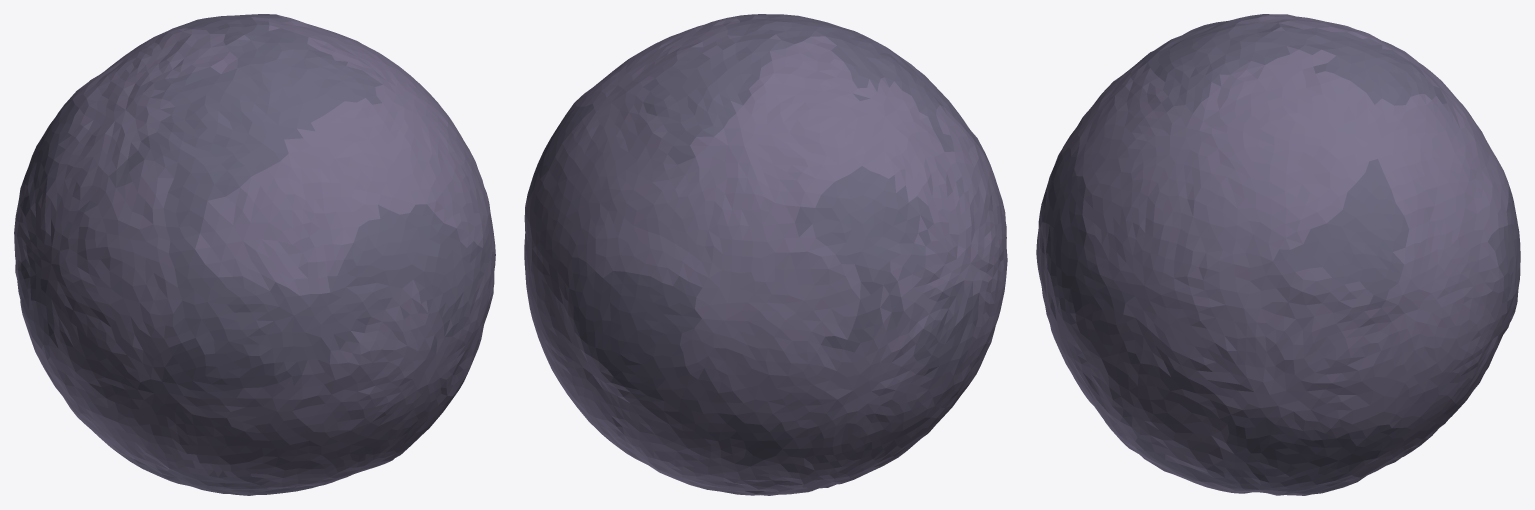
The model's file is Mercure.gltf.
3 renders of one model, left to right at view 1: azimuth 30°, elevation 25°; view 2: azimuth 150°, elevation 25°; view 3: azimuth 270°, elevation 25°, orthographic.
Visible parts, largest first — view 1: Icosphere; view 2: Icosphere; view 3: Icosphere.
Boxes of the visible parts, x1,y1,x2,y2 form: Icosphere: (14, 14, 495, 495); Icosphere: (524, 14, 1007, 495); Icosphere: (1036, 14, 1520, 495).
Size of the model in its own units: 4.05 by 4.06 by 4.1.
